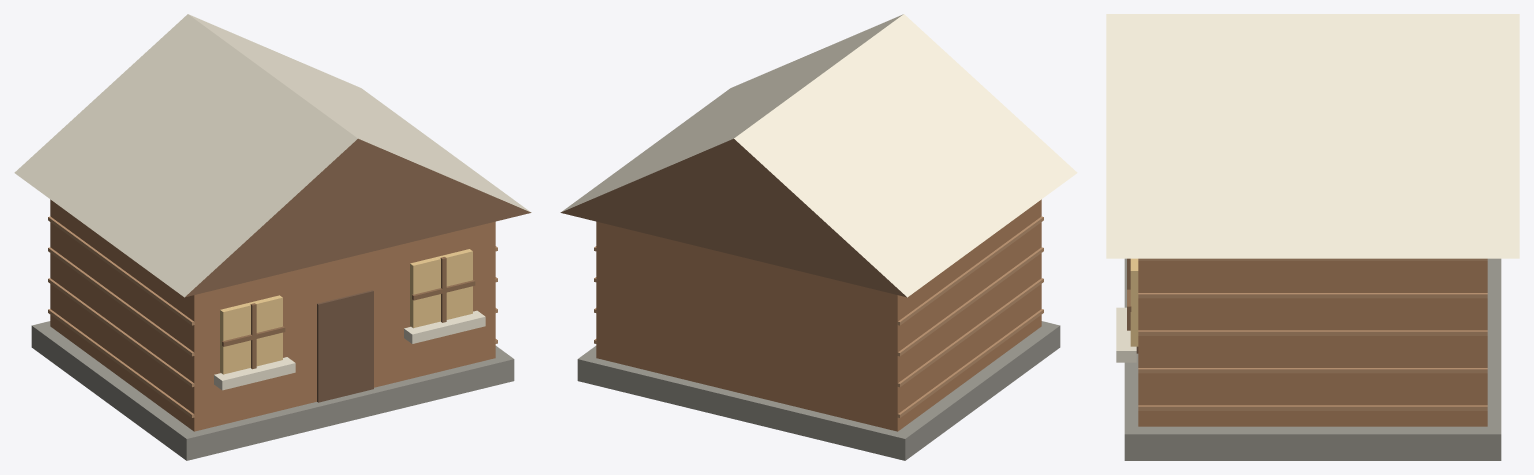
File: chalet.glb
3 views of the same model, side by side, from view 1: azimuth 30°, elevation 25°; view 2: azimuth 150°, elevation 25°; view 3: azimuth 270°, elevation 25° (orthographic). The views are drawn at different scales.
Visible parts, largest first — view 1: chalet; view 2: chalet; view 3: chalet.
Boxes of the visible parts, bbox=[...] form: chalet: bbox=[14, 14, 531, 460]; chalet: bbox=[560, 14, 1077, 460]; chalet: bbox=[1106, 14, 1519, 460].
Size of the model in its own units: 5.3 by 4.2 by 4.5.
